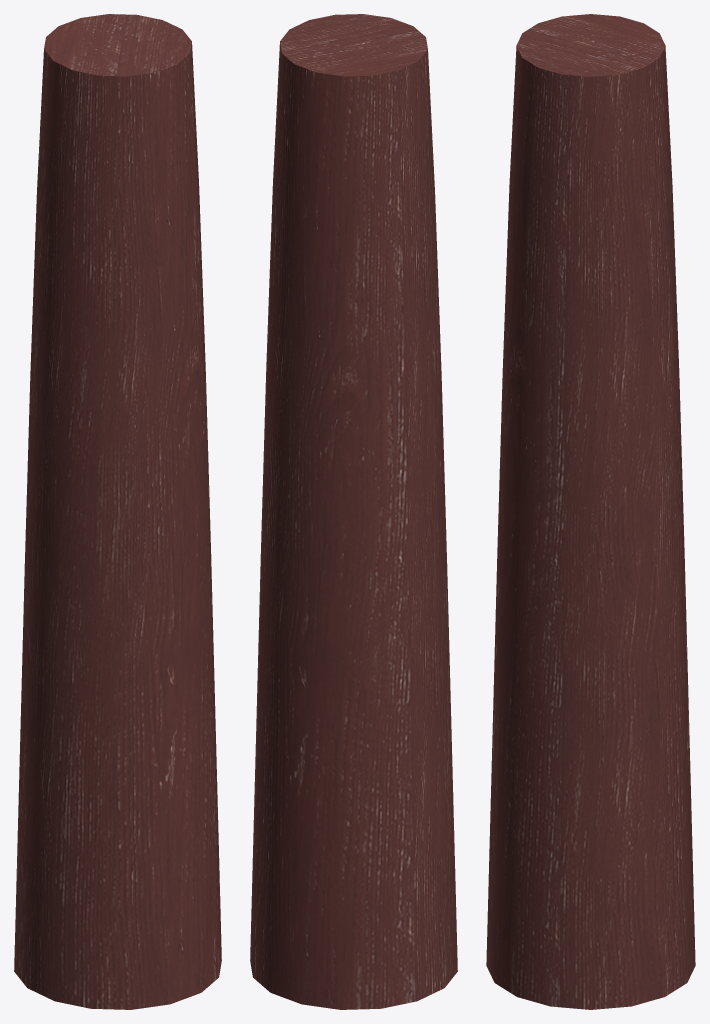
File: SM_Ssang_Dae_Pillar_B.fbx
3 views of the same model, side by side, from view 1: azimuth 30°, elevation 25°; view 2: azimuth 150°, elevation 25°; view 3: azimuth 270°, elevation 25° (orthographic).
Parts seen in each view (by area): view 1: SM_Ssang_Dae_Pillar_B; view 2: SM_Ssang_Dae_Pillar_B; view 3: SM_Ssang_Dae_Pillar_B.
Boxes of the visible parts, <box> form: SM_Ssang_Dae_Pillar_B: <box>14,14,221,1009</box>; SM_Ssang_Dae_Pillar_B: <box>250,14,457,1009</box>; SM_Ssang_Dae_Pillar_B: <box>486,14,695,1009</box>.
Bounding box in the file's own units: 86.31 × 419 × 86.31.
